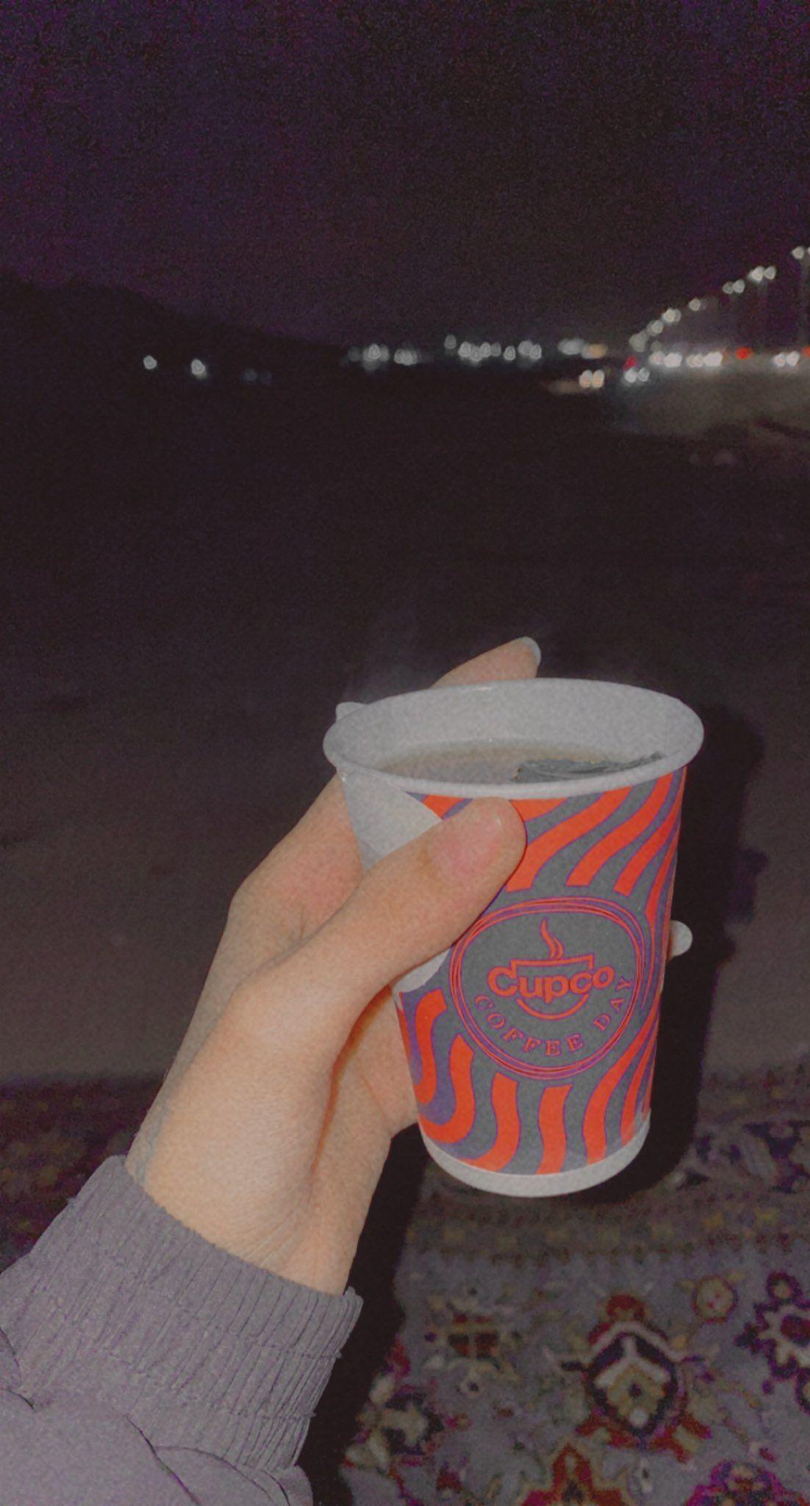cup-disposable: (329, 675, 709, 1196)
